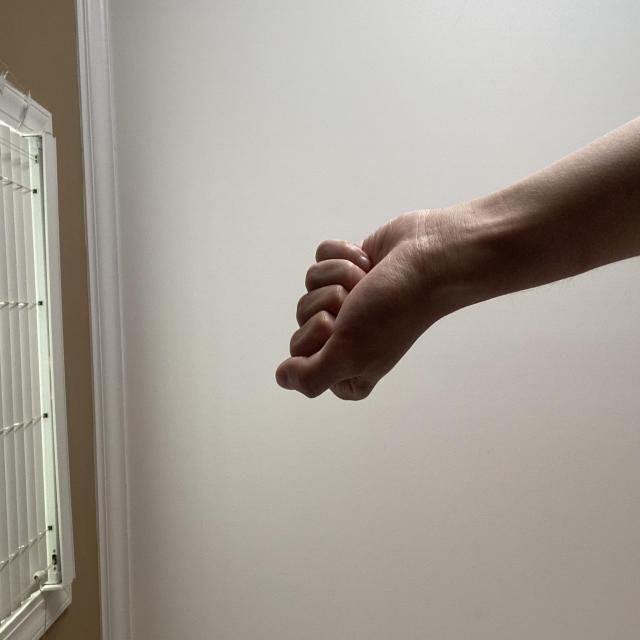A: (176, 361, 328, 584)
